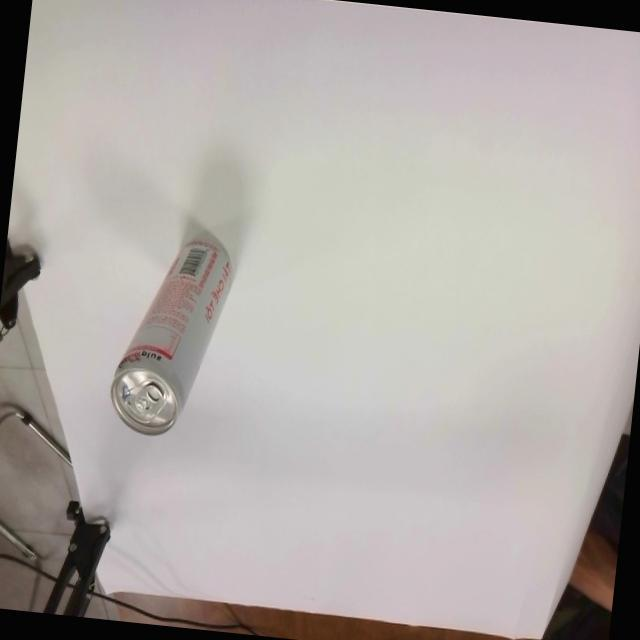debris: (104, 210, 239, 443)
